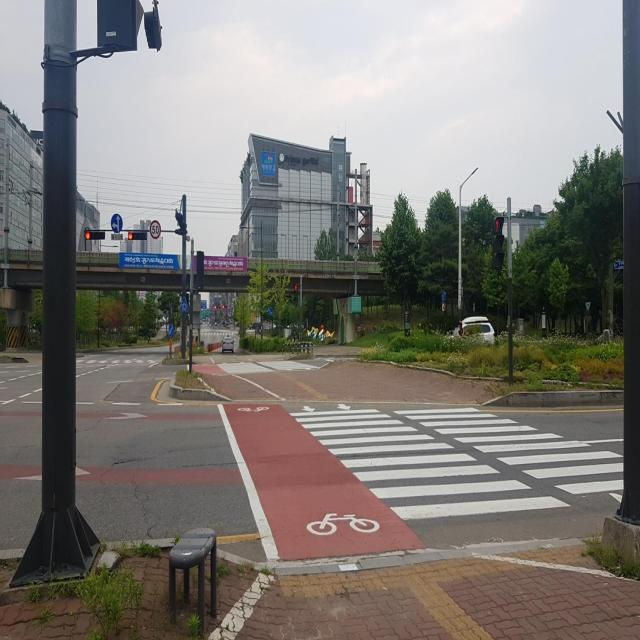빨간불: (292, 282, 300, 306)
횡단보도: (289, 401, 624, 521)
